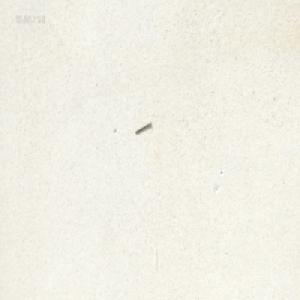Bolt: (134, 120, 151, 134)
